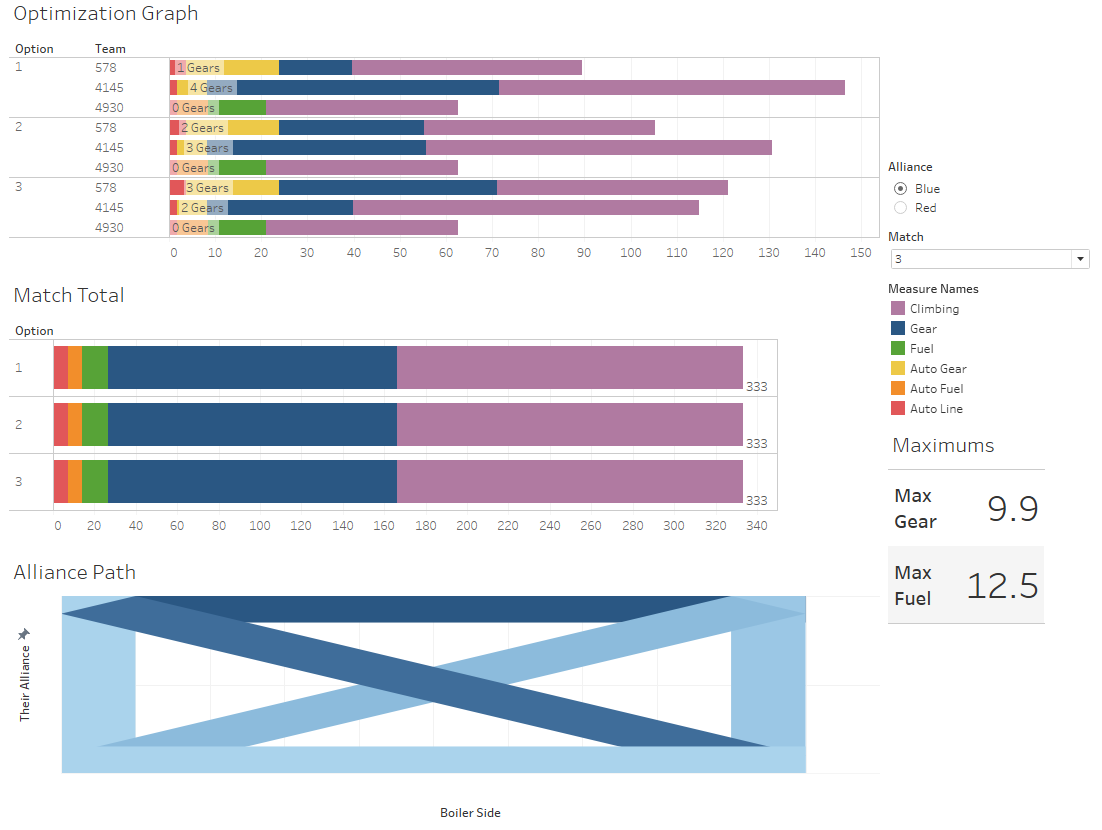

What the dashboard file says about the page in this screenshot:
{"tool":"tableau","page":{"name":"Match Dashboard","canvas":[1100,850],"ordinal":0},"visuals":[{"type":"worksheet","title":"Optimization Graph","mark":"Automatic","rows":["F7","F2"],"box":[0,0,883,286]},{"type":"worksheet","title":"Blank Sheet","mark":"Automatic","box":[883,0,217,168]},{"type":"filter","title":"Optimization Graph","param":"[federated.10vqfcw17nr1qw18ymifj0svkdzo].[none:F3:nk]","box":[883,168,217,70]},{"type":"filter","title":"Optimization Graph","param":"[federated.10vqfcw17nr1qw18ymifj0svkdzo].[none:F1:ok]","box":[883,238,217,52]},{"type":"worksheet","title":"Match Total","mark":"Automatic","rows":["F7","F1"],"box":[0,286,883,277]},{"type":"legend","title":"Optimization Graph","param":"[federated.10vqfcw17nr1qw18ymifj0svkdzo].[:Measure Names]","box":[883,290,217,146]},{"type":"worksheet","title":"Maximums","mark":"Automatic","cols":["F1"],"box":[883,436,217,210]},{"type":"worksheet","title":"Alliance Path","mark":"Polygon","rows":["F3"],"cols":["F2"],"box":[0,563,883,287]}]}

Visuals, with their boxes in screenshot pixels (x1, y1, x2, y2), scaled from the page's 1100x850 canvas onto the 1102x830 screenshot:
"Optimization Graph" worksheet: [left=0, top=0, right=885, bottom=279]
"Blank Sheet" worksheet: [left=885, top=0, right=1101, bottom=164]
"Optimization Graph" filter: [left=885, top=164, right=1101, bottom=232]
"Optimization Graph" filter: [left=885, top=232, right=1101, bottom=283]
"Match Total" worksheet: [left=0, top=279, right=885, bottom=550]
"Optimization Graph" legend: [left=885, top=283, right=1101, bottom=426]
"Maximums" worksheet: [left=885, top=426, right=1101, bottom=631]
"Alliance Path" worksheet (Polygon marks): [left=0, top=550, right=885, bottom=829]
